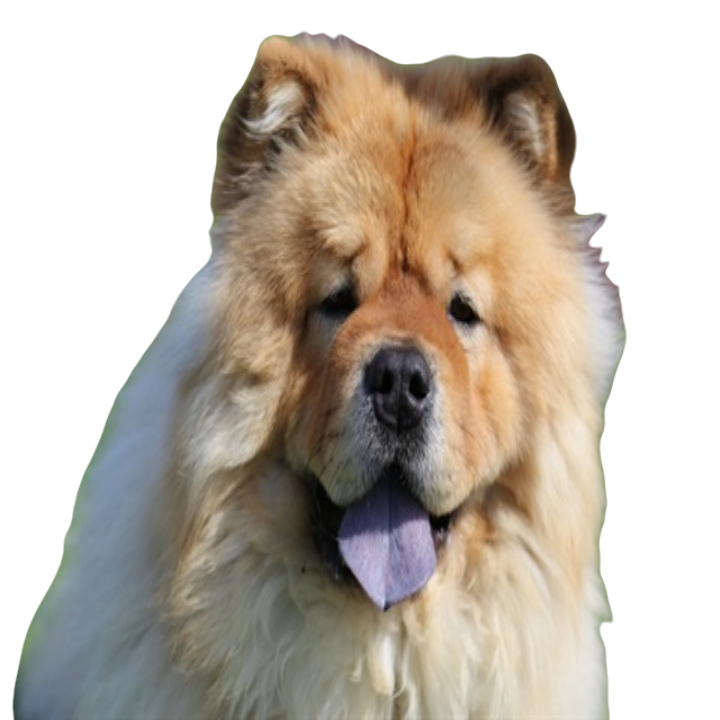Dog: (10, 27, 629, 719)
